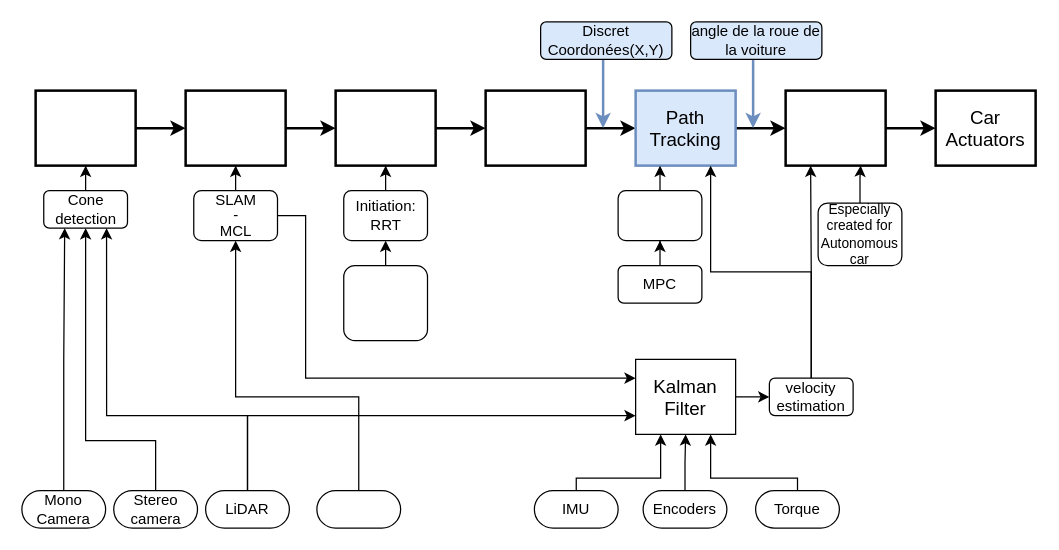
Some shapes in this 1059 by 550 pixel diagram are drawn without their labels. The centre of each missing label's shape, as x and y in pixels:
"Control" goes at point (835, 127).
"Feedback controler" goes at point (659, 215).
"GPS" goes at point (358, 508).
"Mapping - Localization" goes at point (235, 127).
"Optimization: minimum curvature algorithm" goes at point (385, 302).
"Path generator" goes at point (535, 127).
"Path Planning" goes at point (385, 127).
"Perception" goes at point (85, 127).
